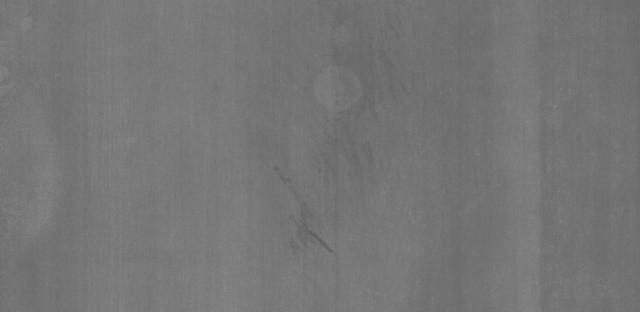water_spot: (266, 149, 340, 274)
